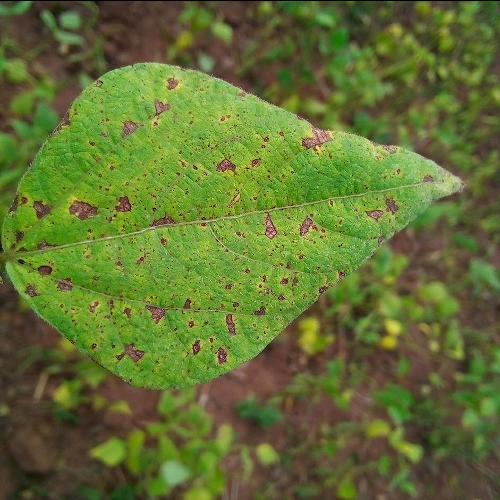hawar: (179, 192, 411, 289), (5, 180, 163, 300), (99, 303, 283, 387), (212, 110, 384, 180), (83, 56, 191, 164)
